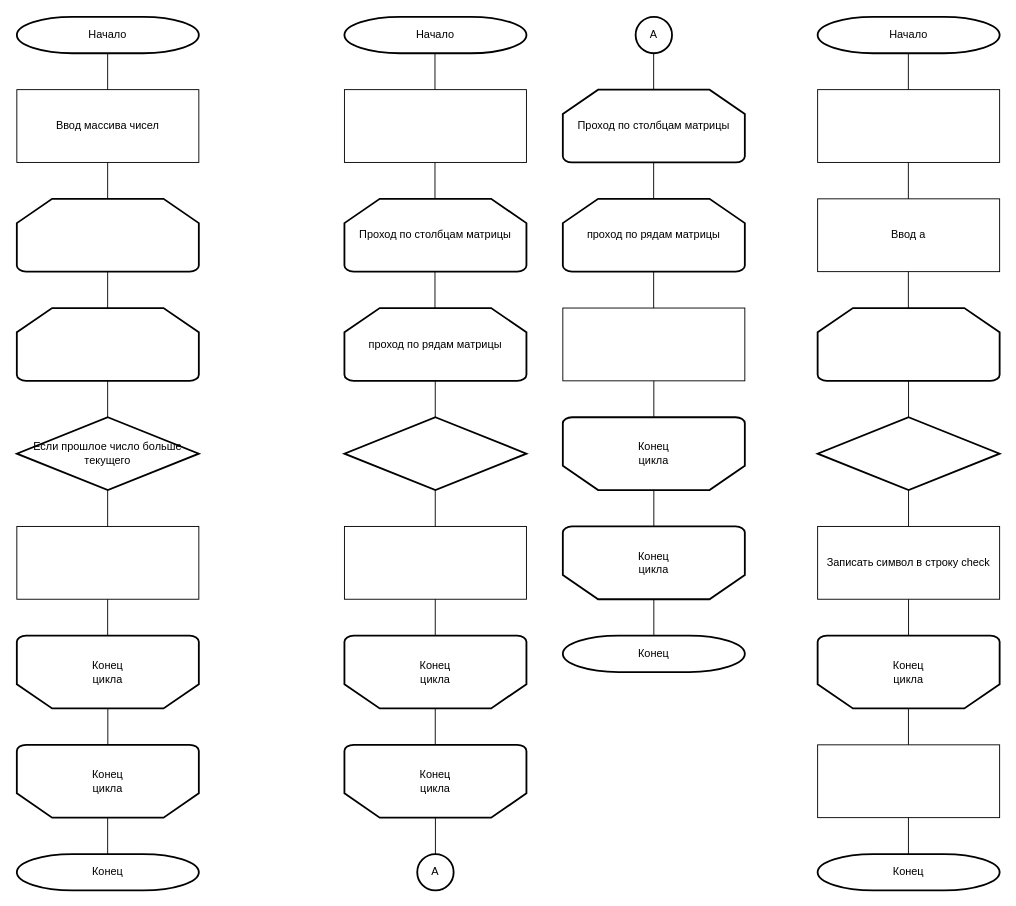
Some shapes in this 1016 by 906 pixel diagram are drawn without their labels. The shapes that lost their labels are listed below. From the top down, each one's centre as x and y in pixels, then its label:
[435,125]: Ввод матрицы
[908,125]: Обозначение строки a, пустой строки check
[107,234]: проход по числам массива
[107,344]: проход по числам массива с прибавкой 1 к индексу
[653,344]: Вывод числа
[908,344]: Проход по символам строки
[435,453]: Если число отрицательное
[908,453]: Если нет дубликатов в строке check
[107,562]: Поменять местами наибольшее и наименьшее число
[435,562]: Умножить на -1
[908,781]: Вывод строки check
